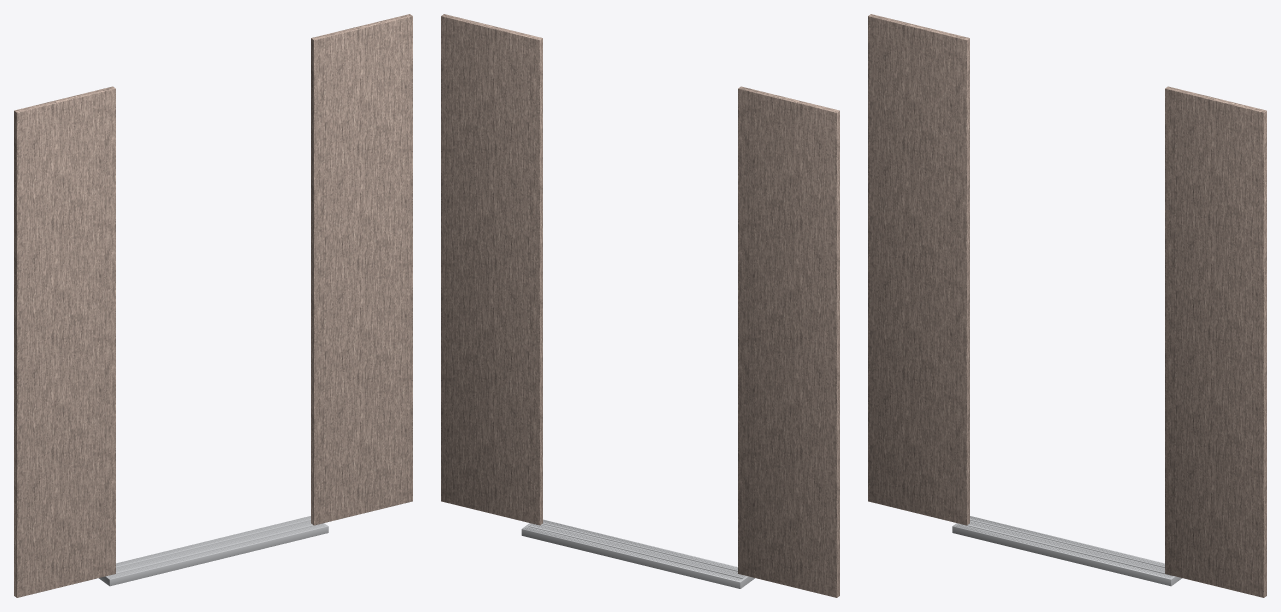
File: cabin_door_TM031.glb
3 views of the same model, side by side, from view 1: azimuth 30°, elevation 25°; view 2: azimuth 150°, elevation 25°; view 3: azimuth 330°, elevation 25° (orthographic).
Visible parts, largest first — view 1: Car_Door_L, Car_Door_R, Door_Sill; view 2: Car_Door_L, Car_Door_R, Door_Sill; view 3: Car_Door_L, Car_Door_R, Door_Sill.
Boxes of the visible parts, x1,y1,x2,y2 form: Car_Door_L: [14, 86, 115, 597]; Car_Door_R: [311, 14, 412, 525]; Door_Sill: [98, 516, 328, 586]; Car_Door_L: [738, 86, 839, 597]; Car_Door_R: [441, 14, 542, 525]; Door_Sill: [521, 519, 754, 588]; Car_Door_L: [868, 14, 969, 525]; Car_Door_R: [1165, 86, 1266, 597]; Door_Sill: [952, 516, 1182, 586].
Size of the model in its own units: 1.81 by 2.15 by 0.12.
3 materials, 1 textured.
